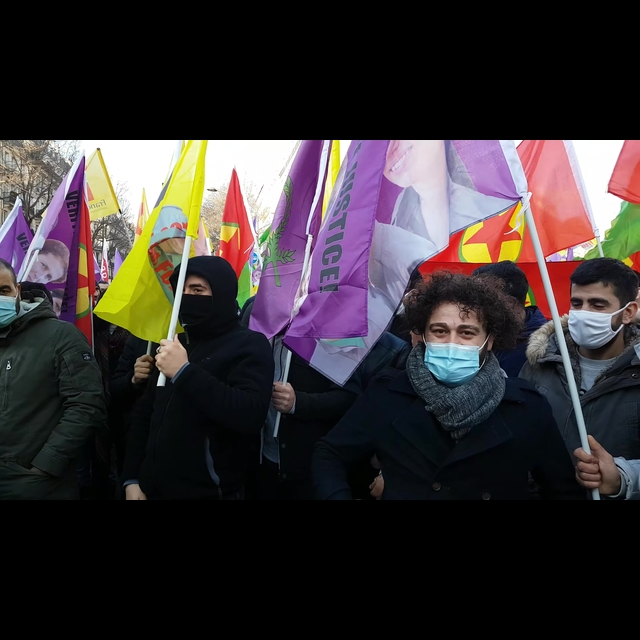PKK: (452, 202, 535, 262)
